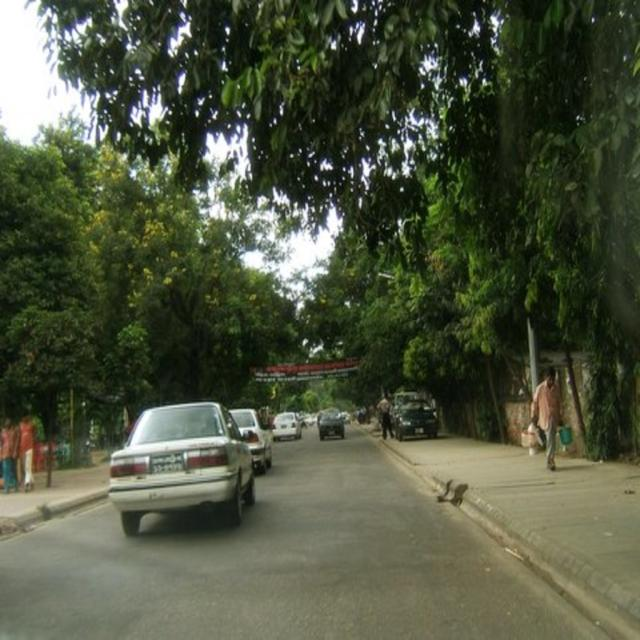car: (102, 399, 267, 540), (395, 399, 441, 439), (265, 410, 301, 439), (318, 406, 345, 439)
